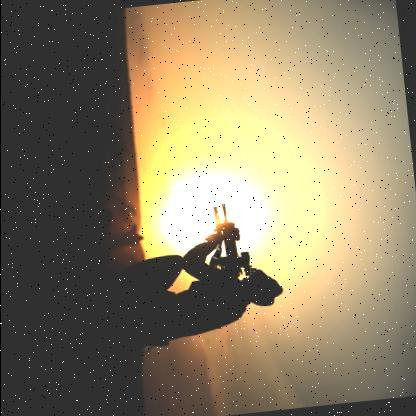rifle: (196, 197, 258, 286)
